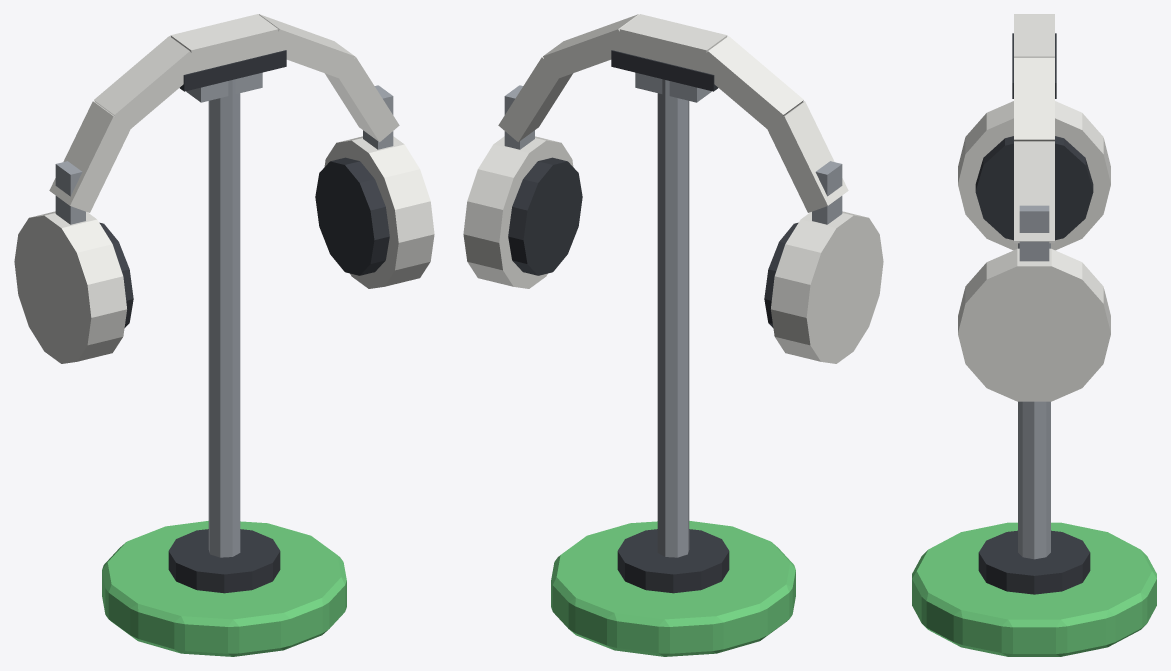
Rendered from headphones_core.glb.
The picture shows the model from 3 angles, left to right: view 1: azimuth 30°, elevation 25°; view 2: azimuth 150°, elevation 25°; view 3: azimuth 270°, elevation 25°; orthographic projection.
Visible parts, largest first — view 1: headphones_core_mesh; view 2: headphones_core_mesh; view 3: headphones_core_mesh.
Part boxes in pixels (box(x1,y1,x2,y2)): headphones_core_mesh: box(14, 14, 434, 656); headphones_core_mesh: box(463, 14, 883, 656); headphones_core_mesh: box(912, 14, 1156, 656).
Size of the model in its own units: 0.67 by 1.07 by 0.4155.
